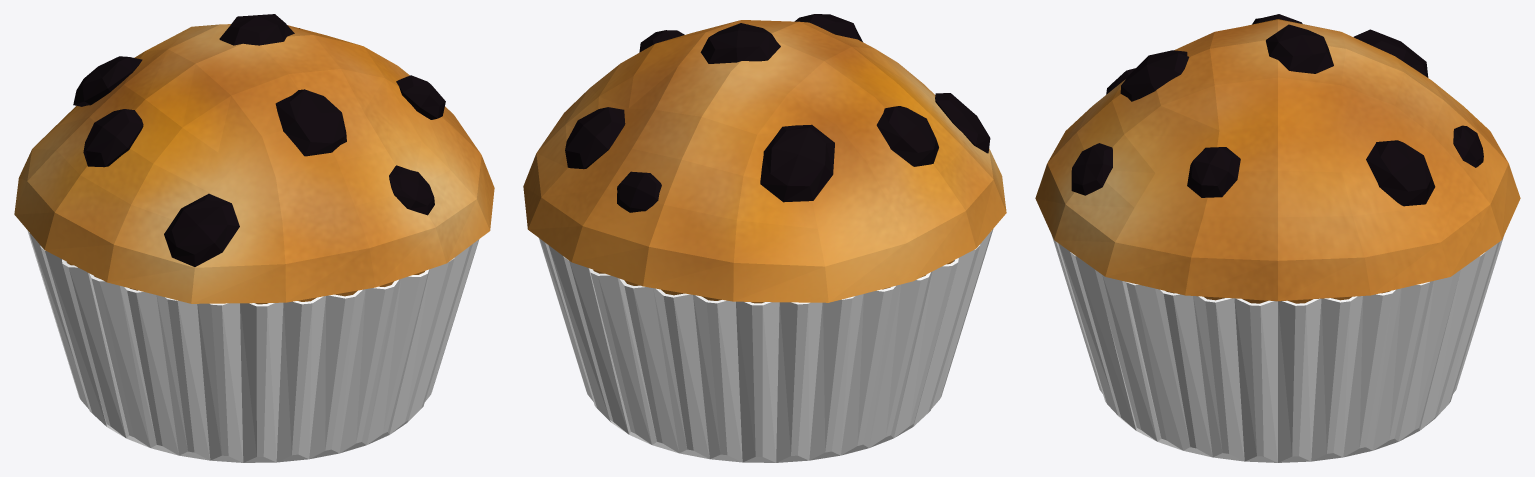
File: blueberry muffin.obj
3 views of the same model, side by side, from view 1: azimuth 30°, elevation 25°; view 2: azimuth 150°, elevation 25°; view 3: azimuth 270°, elevation 25° (orthographic).
Bounding box in the file's own units: 2.77 × 2.29 × 2.77.
Materials: 3 (1 with a texture image).
